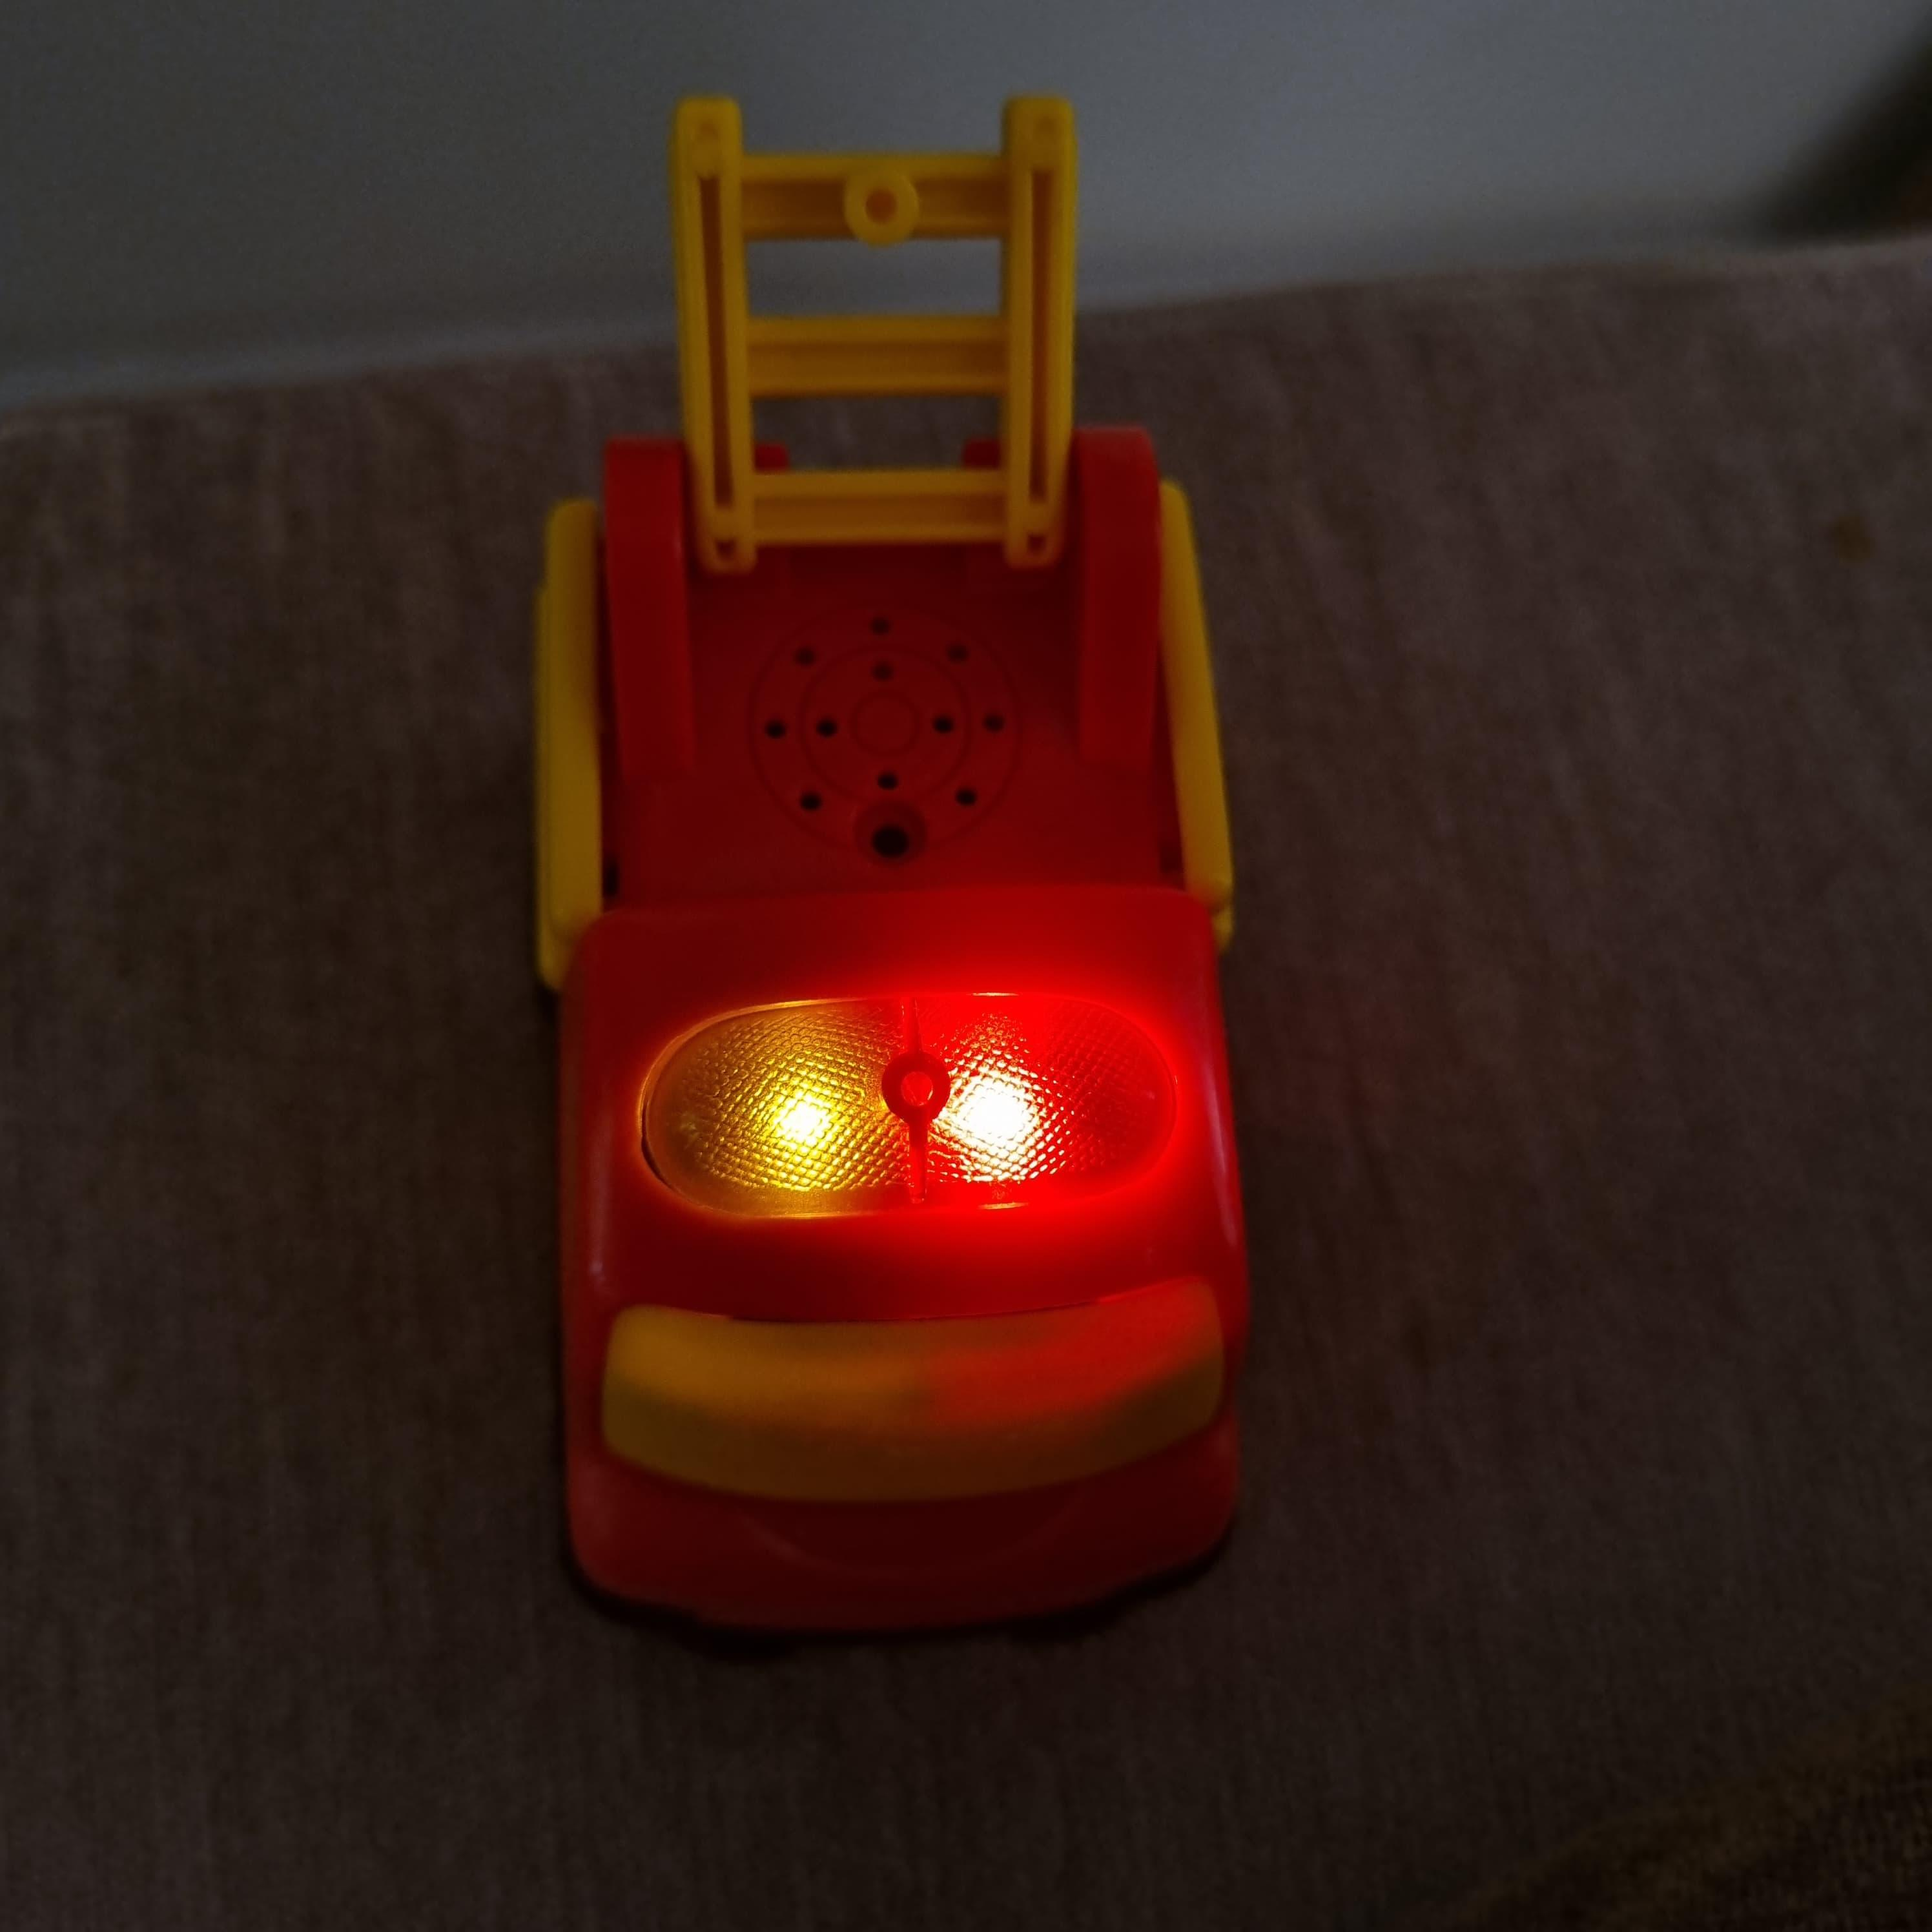firetruck_on: (524, 104, 1267, 1656)
